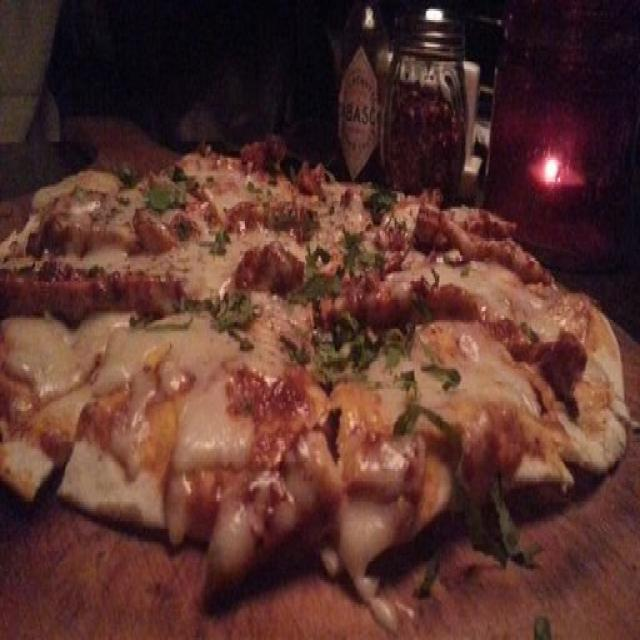Basil: (395, 401, 525, 556), (281, 330, 412, 390), (186, 292, 256, 352), (288, 246, 340, 300), (339, 231, 382, 275), (148, 183, 190, 212), (422, 366, 461, 391), (364, 191, 393, 221), (202, 230, 231, 257)
Chicken: (418, 197, 551, 274), (1, 267, 184, 317), (318, 280, 482, 326), (513, 324, 584, 417), (241, 242, 299, 290), (134, 207, 172, 250), (298, 162, 325, 194)
Pizza: (0, 140, 631, 604)
